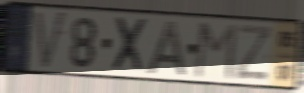8: (69, 15, 97, 70)
A: (144, 19, 190, 79)
M: (192, 20, 239, 82)
V: (32, 9, 69, 73)
X: (110, 15, 149, 76)
Z: (233, 22, 274, 82)
